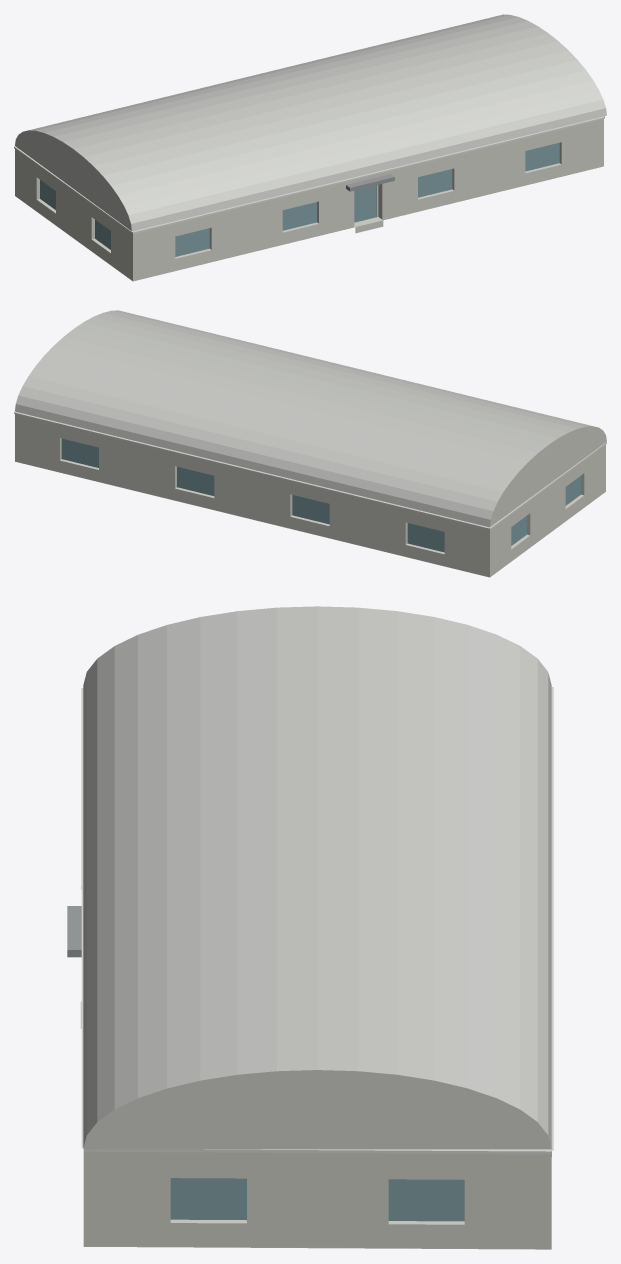
The picture shows the model from 3 angles, top to bottom: view 1: azimuth 30°, elevation 25°; view 2: azimuth 150°, elevation 25°; view 3: azimuth 270°, elevation 25°; orthographic projection. The views are drawn at different scales.
Parts seen in each view (by area): view 1: osm761589265__vaultRoof, osm761589265__wall, osm761589265__glass, osm761589265__vaultEnd, osm761589265__parapet, osm761589265__trim, osm761589265__roof, osm761589265__canopy; view 2: osm761589265__vaultRoof, osm761589265__wall, osm761589265__glass, osm761589265__vaultEnd, osm761589265__parapet, osm761589265__trim, osm761589265__roof; view 3: osm761589265__vaultRoof, osm761589265__wall, osm761589265__vaultEnd, osm761589265__glass, osm761589265__trim, osm761589265__parapet.
Part boxes in pixels (x1,y1,x2,y2): osm761589265__vaultRoof: [29, 14, 606, 231]; osm761589265__wall: [15, 122, 603, 280]; osm761589265__glass: [40, 142, 559, 256]; osm761589265__vaultEnd: [15, 130, 131, 231]; osm761589265__parapet: [15, 119, 603, 236]; osm761589265__trim: [14, 116, 604, 233]; osm761589265__roof: [15, 166, 603, 281]; osm761589265__canopy: [346, 174, 394, 191]; osm761589265__vaultRoof: [15, 310, 592, 527]; osm761589265__wall: [15, 417, 605, 577]; osm761589265__glass: [61, 438, 580, 552]; osm761589265__vaultEnd: [490, 426, 606, 526]; osm761589265__parapet: [15, 414, 605, 533]; osm761589265__trim: [14, 411, 606, 529]; osm761589265__roof: [15, 461, 605, 577]; osm761589265__vaultRoof: [83, 606, 551, 1147]; osm761589265__wall: [83, 1158, 551, 1248]; osm761589265__vaultEnd: [83, 1070, 551, 1149]; osm761589265__glass: [170, 1178, 464, 1221]; osm761589265__trim: [81, 687, 553, 1154]; osm761589265__parapet: [83, 1151, 551, 1160].
Bounding box in the file's own units: 34 × 6.5 × 15.03.
